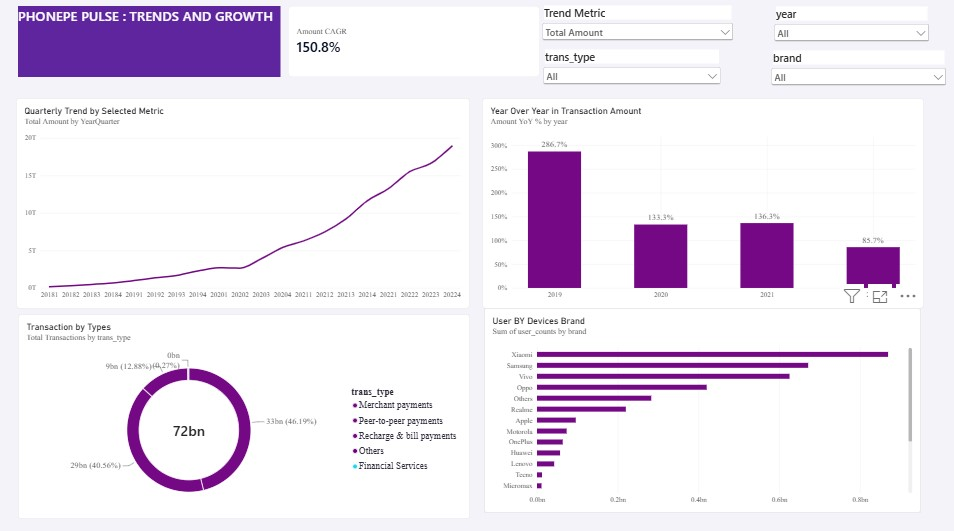

Layout of this report page (visuals, bound fields, positions):
{"tool":"powerbi","page":{"name":"Trends &Growth","canvas":[1920,1080],"ordinal":2},"visuals":[{"type":"lineChart","title":"Quarterly Trend by Selected Metric","fields":{"Category":["DimTime.YearQuarter"],"Y":["aggregated_transaction.Total Amount"]},"box":[38.3,210.5,907.8,420.9],"z":0},{"type":"clusteredColumnChart","title":"Year Over Year in Transaction Amount","fields":{"Category":["DimTime.year"],"Y":["aggregated_transaction.Amount YoY %"]},"box":[969.4,210.5,884.4,420.9],"z":1000},{"type":"cardVisual","fields":{"Data":["aggregated_transaction.Amount CAGR"]},"box":[582.5,25.5,503.9,142.4],"z":2000},{"type":"slicer","fields":{"Values":["DimTime.year"]},"box":[1549.8,25.5,318.9,80.8],"z":3000},{"type":"donutChart","title":"Transaction by Types","fields":{"Category":["aggregated_transaction.trans_type"],"Y":["aggregated_transaction.Total Transactions"]},"box":[42.5,642,903.5,410.3],"z":4000},{"type":"barChart","title":"User BY Devices Brand","fields":{"Category":["aggregated_user.brand"],"Y":["Sum(aggregated_user.user_counts)"]},"box":[974,630,873.8,410.3],"z":5000},{"type":"slicer","fields":{"Values":["aggregated_transaction.trans_type"]},"box":[1088.5,112.7,363.5,76.5],"z":6000},{"type":"slicer","fields":{"Values":["aggregated_user.brand"]},"box":[1543.5,114.8,359.3,80.8],"z":7000},{"type":"slicer","fields":{"Values":["Trend Metric.Trend Metric"]},"box":[1086.4,23.4,391.2,74.4],"z":8000},{"type":"textbox","box":[42.5,25.5,525.1,142.4],"z":9000}]}

Visuals, with their boxes in screenshot pixels (x1, y1, x2, y2), scaled from the page's 1920x1080 canvas onto the 954x531 screenshot:
"Quarterly Trend by Selected Metric" lineChart: [x1=19, y1=103, x2=470, y2=310]
"Year Over Year in Transaction Amount" clusteredColumnChart: [x1=482, y1=103, x2=921, y2=310]
cardVisual - aggregated_transaction.Amount CAGR: [x1=289, y1=13, x2=540, y2=83]
slicer - DimTime.year: [x1=770, y1=13, x2=929, y2=52]
"Transaction by Types" donutChart: [x1=21, y1=316, x2=470, y2=517]
"User BY Devices Brand" barChart: [x1=484, y1=310, x2=918, y2=511]
slicer - aggregated_transaction.trans_type: [x1=541, y1=55, x2=721, y2=93]
slicer - aggregated_user.brand: [x1=767, y1=56, x2=945, y2=96]
slicer - Trend Metric.Trend Metric: [x1=540, y1=12, x2=734, y2=48]
textbox: [x1=21, y1=13, x2=282, y2=83]
